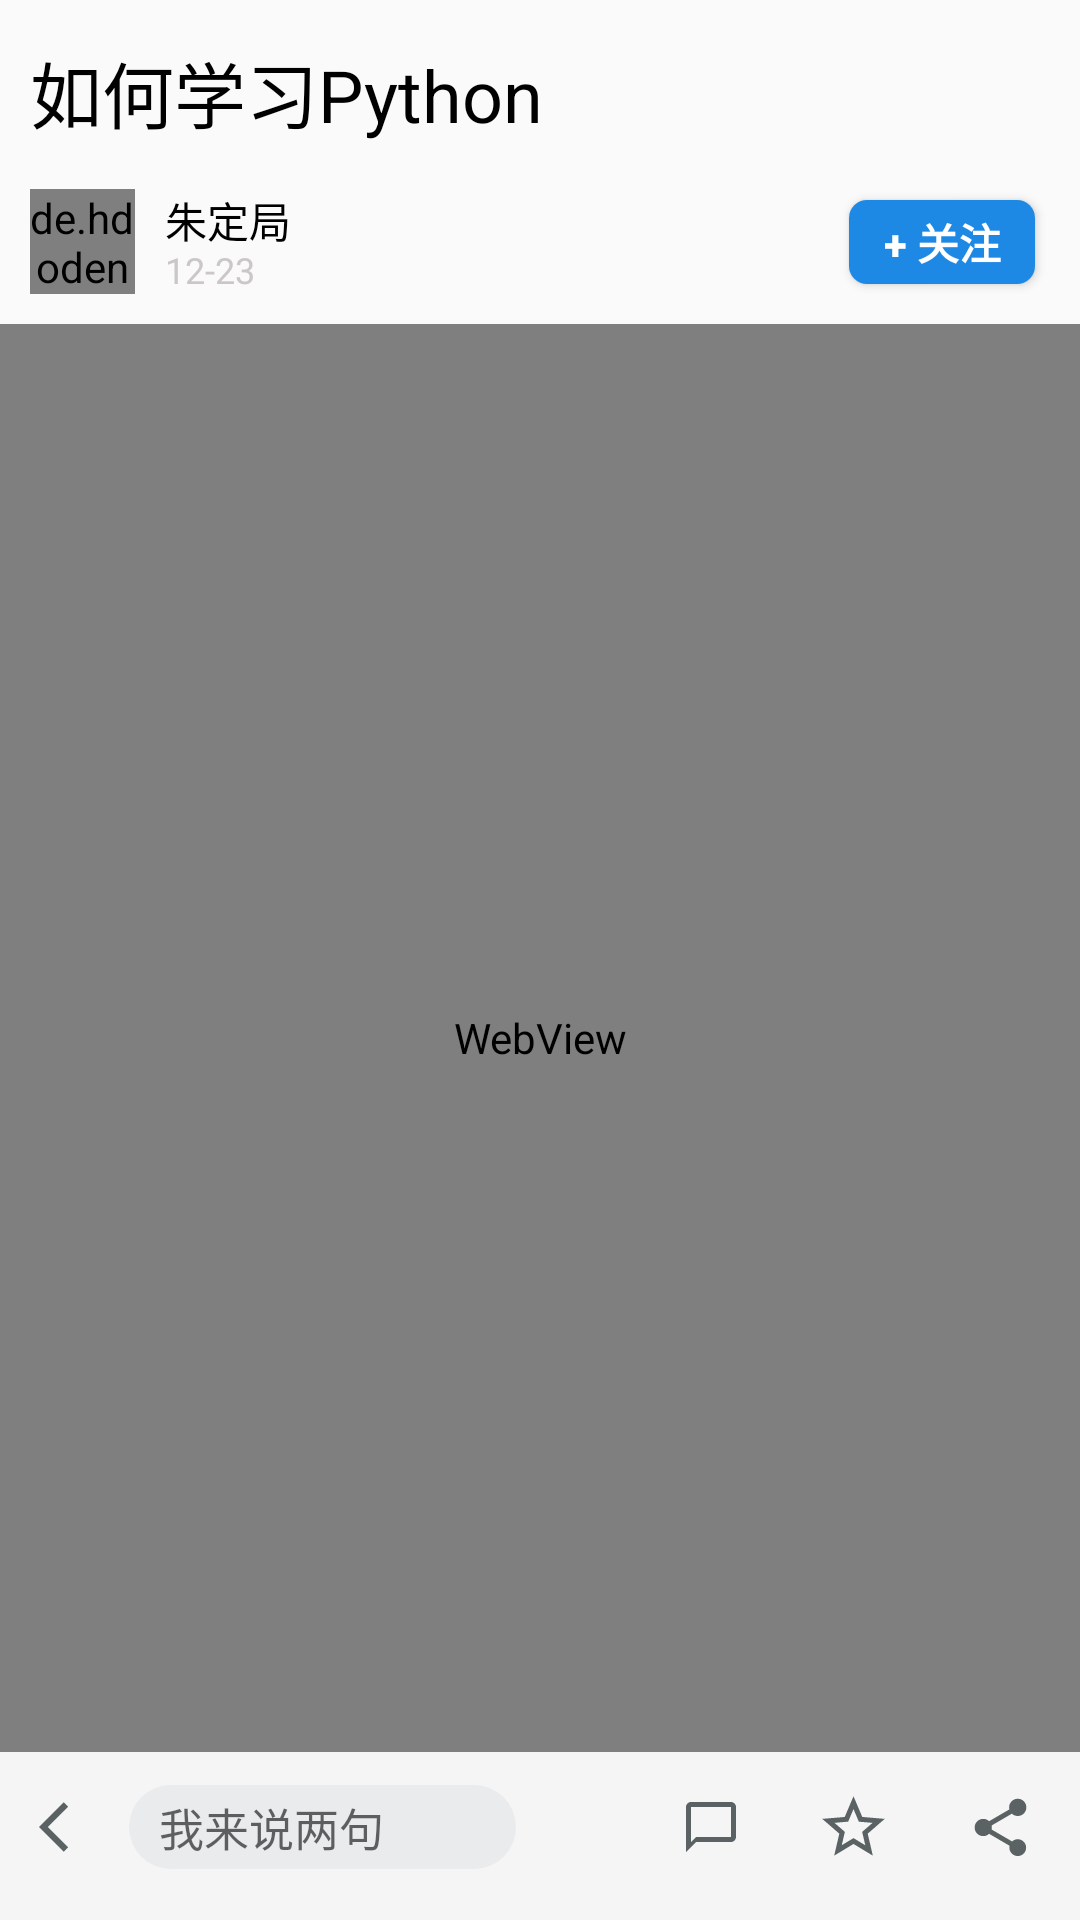

Locate icon controls on the screen. Image size 1080 x 1920, boxes as box(x1, y1, x2, y2).
arrow back: box(39, 1802, 68, 1852)
chat bubble: box(686, 1802, 736, 1852)
share: box(974, 1798, 1027, 1856)
star border: box(822, 1796, 885, 1856)
